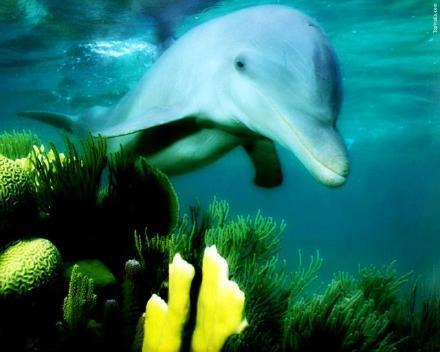fish: (75, 2, 379, 175)
